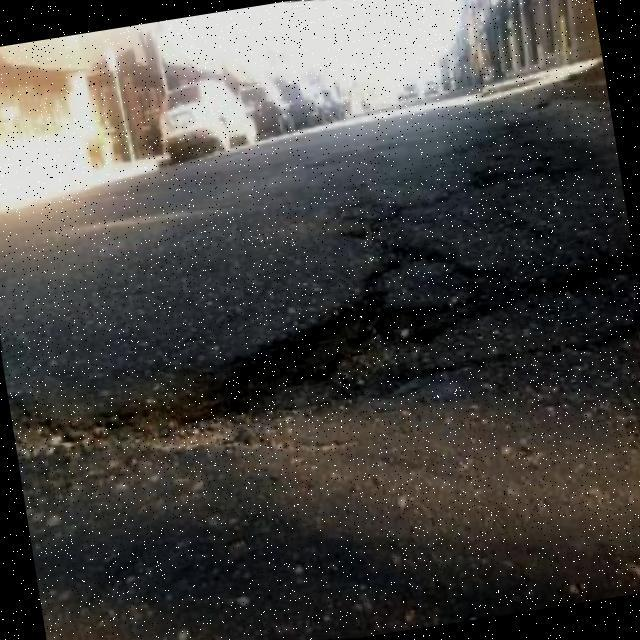Pothole: (8, 291, 460, 460)
